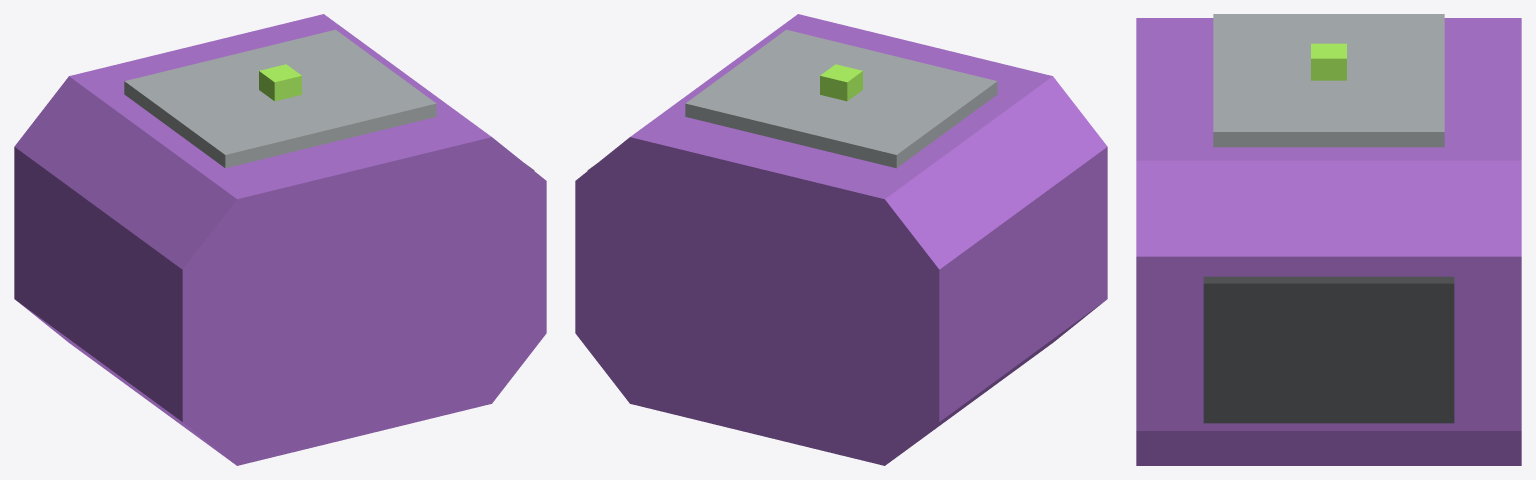
Rendered from cargo_pod_small_mk1.glb.
3 renders of one model, left to right at view 1: azimuth 30°, elevation 25°; view 2: azimuth 150°, elevation 25°; view 3: azimuth 270°, elevation 25°, orthographic. The views are drawn at different scales.
Visible parts, largest first — view 1: GEO_Cargo_Pod_Beveled, GEO_Cargo_Dark_Panel_Top, VIS_PART_Cargo_Pod_Small_Mk1_CONN_MOUNT; view 2: GEO_Cargo_Pod_Beveled, GEO_Cargo_Dark_Panel_Top, VIS_PART_Cargo_Pod_Small_Mk1_CONN_MOUNT; view 3: GEO_Cargo_Pod_Beveled, GEO_Cargo_Dark_Panel_Side, GEO_Cargo_Dark_Panel_Top, VIS_PART_Cargo_Pod_Small_Mk1_CONN_MOUNT.
Boxes of the visible parts, left/top/right/bottom form: GEO_Cargo_Pod_Beveled: left=14, top=14, right=546, bottom=465; GEO_Cargo_Dark_Panel_Top: left=124, top=29, right=436, bottom=168; VIS_PART_Cargo_Pod_Small_Mk1_CONN_MOUNT: left=259, top=64, right=301, bottom=101; GEO_Cargo_Pod_Beveled: left=575, top=14, right=1107, bottom=465; GEO_Cargo_Dark_Panel_Top: left=685, top=29, right=997, bottom=168; VIS_PART_Cargo_Pod_Small_Mk1_CONN_MOUNT: left=820, top=64, right=862, bottom=101; GEO_Cargo_Pod_Beveled: left=1136, top=18, right=1521, bottom=465; GEO_Cargo_Dark_Panel_Side: left=1203, top=276, right=1454, bottom=423; GEO_Cargo_Dark_Panel_Top: left=1213, top=14, right=1444, bottom=147; VIS_PART_Cargo_Pod_Small_Mk1_CONN_MOUNT: left=1311, top=43, right=1346, bottom=80.
Bounding box in the file's own units: 1.05 × 0.7875 × 0.8.
